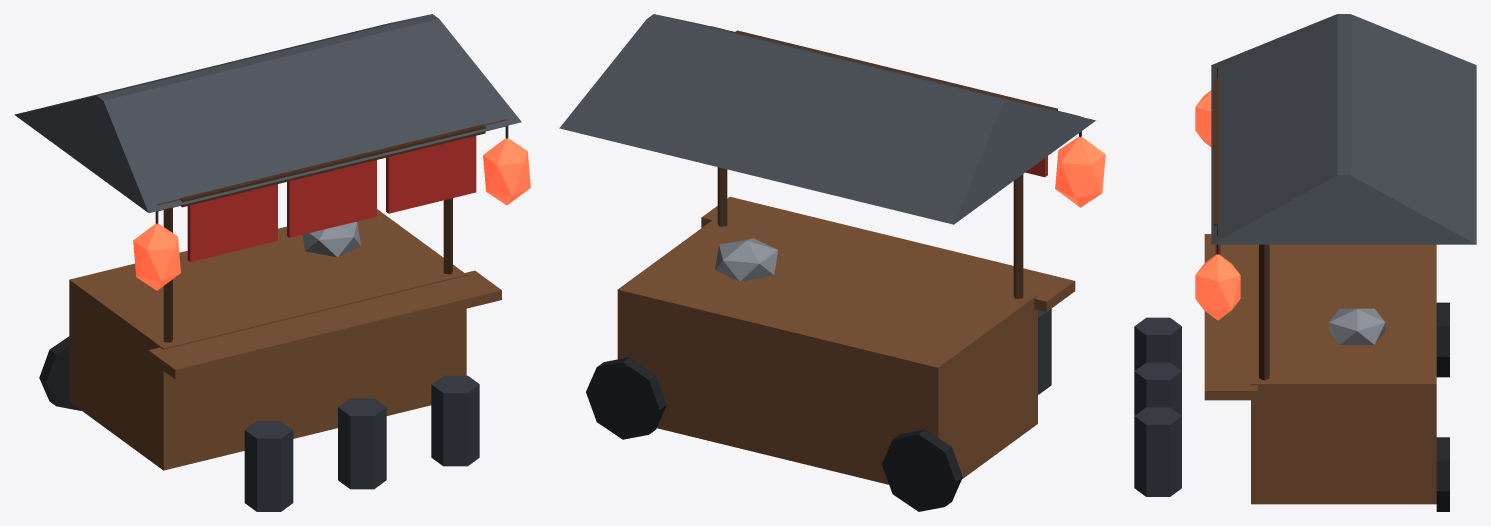
Rendered from yatai.glb.
The picture shows the model from 3 angles, left to right: view 1: azimuth 30°, elevation 25°; view 2: azimuth 150°, elevation 25°; view 3: azimuth 270°, elevation 25°; orthographic projection. The views are drawn at different scales.
Visible parts, largest first — view 1: yatai; view 2: yatai; view 3: yatai.
Boxes of the visible parts, left/top/right/bottom form: yatai: left=14, top=14, right=530, bottom=511; yatai: left=559, top=14, right=1105, bottom=511; yatai: left=1134, top=14, right=1476, bottom=511.
Size of the model in its own units: 3.36 by 2.9 by 2.58.
